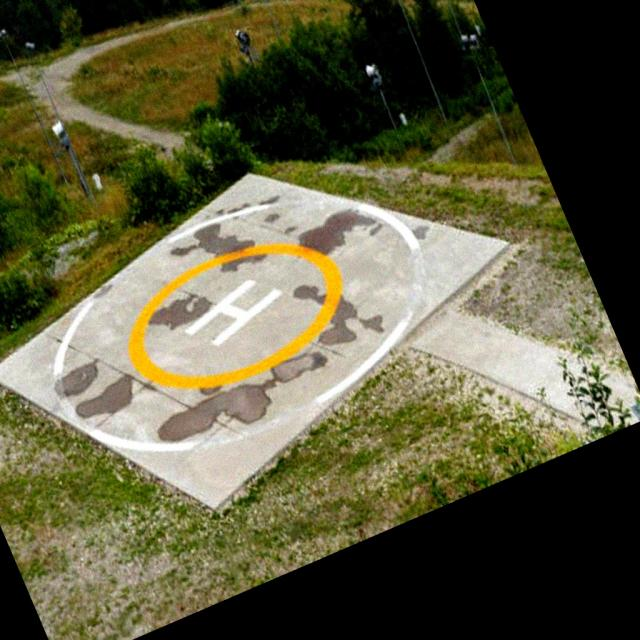helipad: (120, 238, 347, 393)
